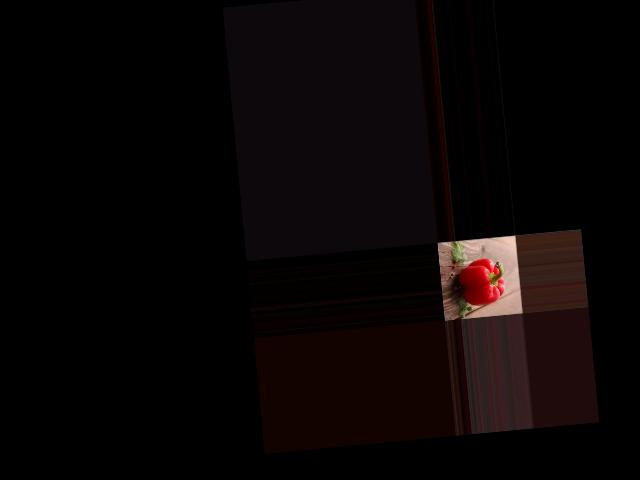bell_pepper: (455, 254, 510, 310)
